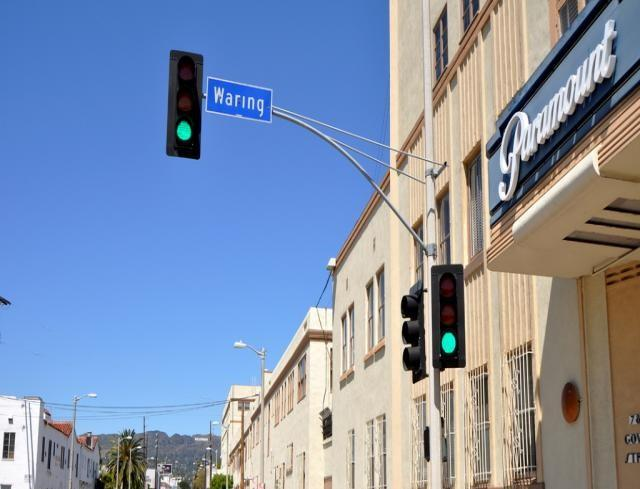green_light: (167, 48, 205, 161), (431, 265, 465, 367)
